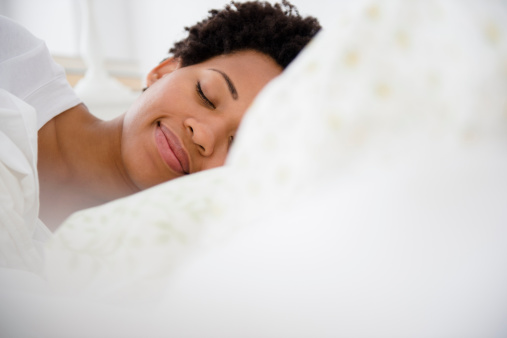deitado: (0, 21, 431, 320)
